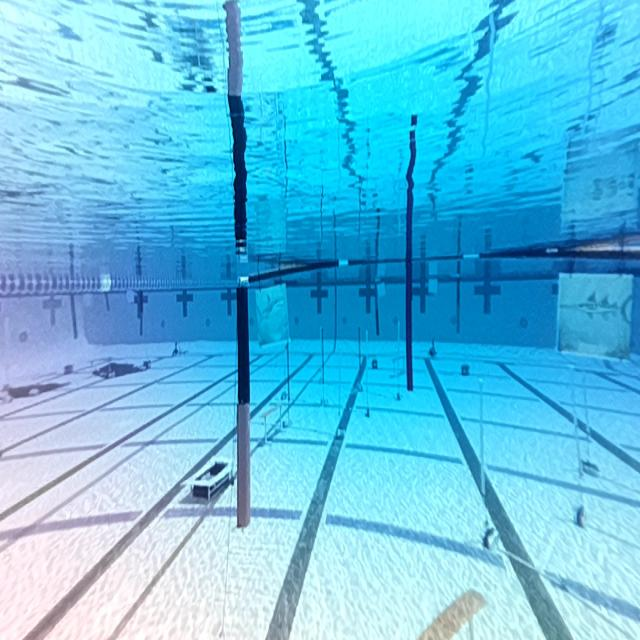pointed_nose: (556, 278, 634, 333)
round_nose: (254, 292, 296, 338)
